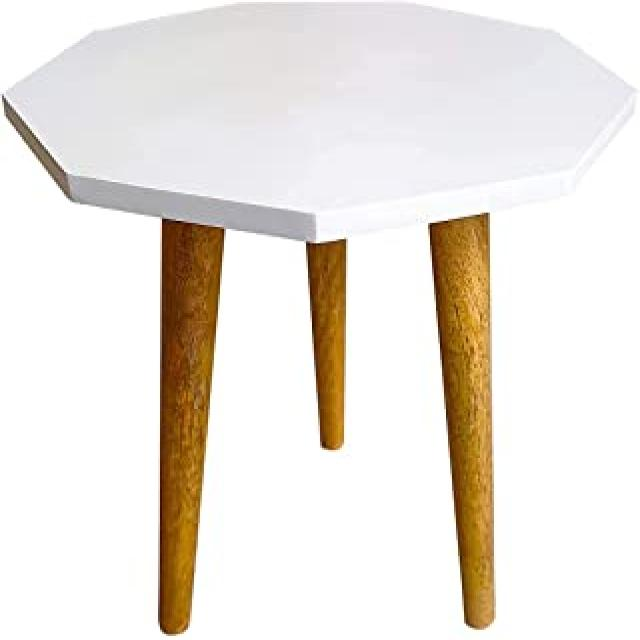obstacle: (87, 145, 592, 618)
